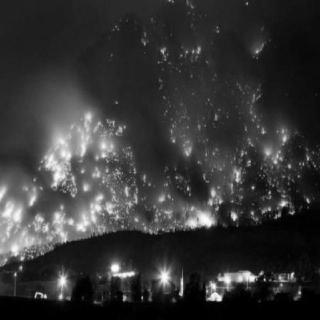other: (150, 260, 174, 292)
